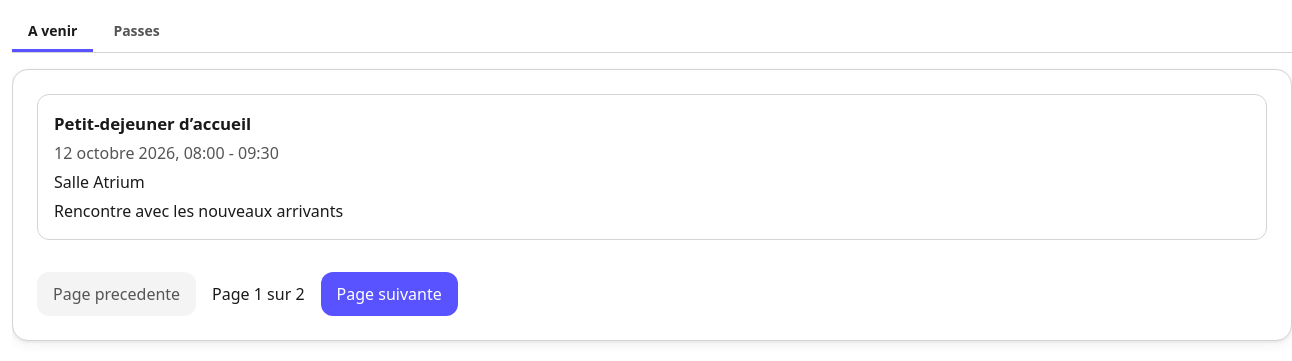
it: les evenements a l’ecran › pagine — la page suivante relance l’appel avec `page=2`
The image size is (1292, 361).
Expected: the text "Page 1 sur 2" is shown, [212,282,305,307]
Click the button "Page suivante" at (389, 294), box [321,272,458,316]
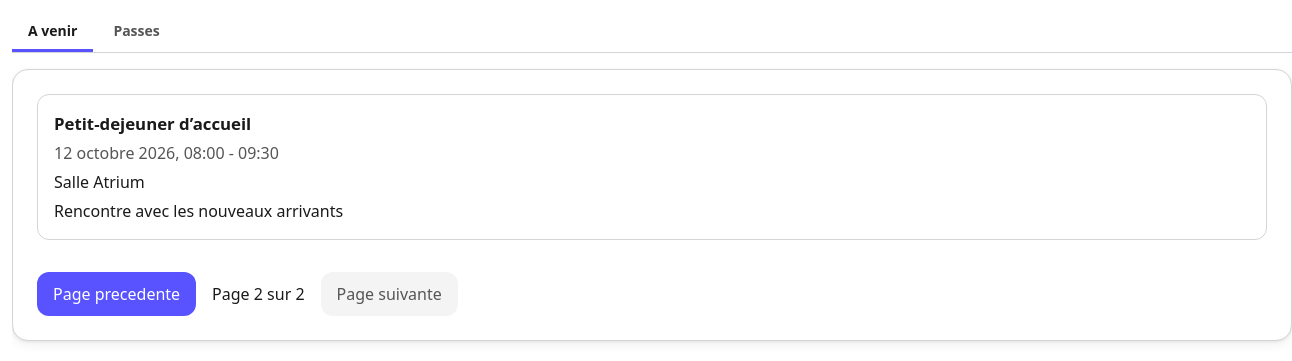
Expected: the text "Page 2 sur 2" is shown, [212,282,305,307]
